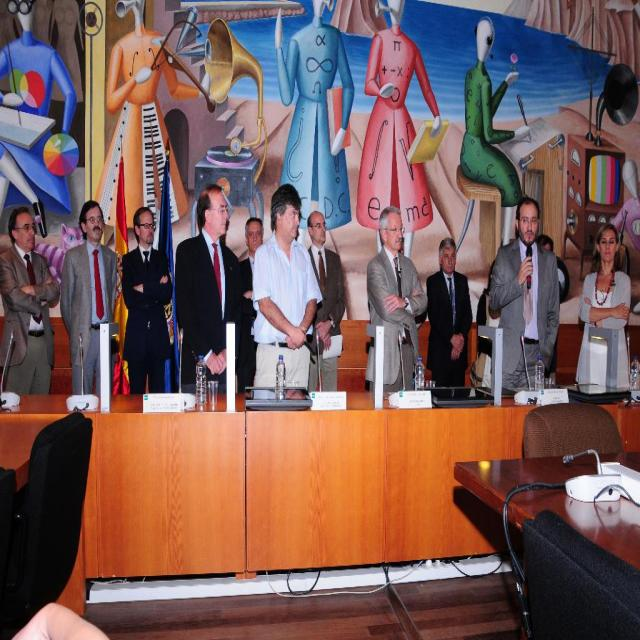chair: (1, 410, 94, 632), (522, 508, 640, 636), (522, 402, 622, 460)
desk: (456, 454, 640, 574)
person: (176, 182, 246, 406), (487, 198, 565, 396), (252, 184, 322, 394), (60, 198, 124, 404), (367, 208, 428, 404), (0, 204, 60, 396), (574, 222, 632, 393), (122, 205, 174, 395), (304, 209, 347, 394), (425, 237, 473, 387), (10, 601, 111, 638)
